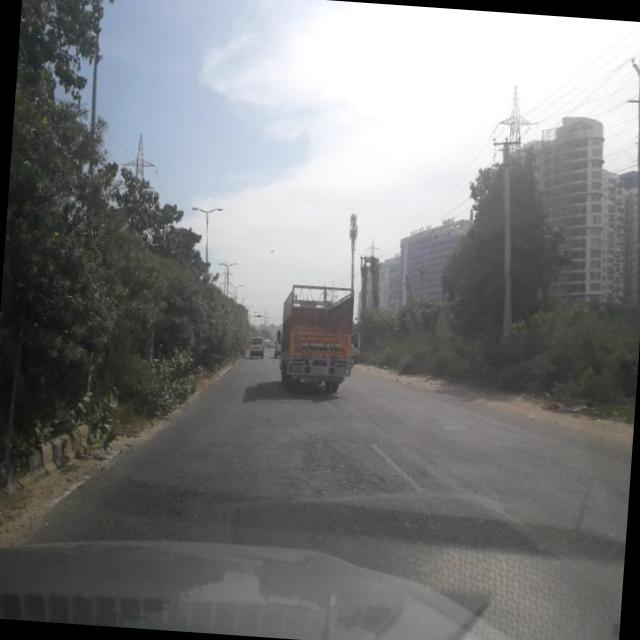crack: (63, 372, 634, 574), (342, 392, 564, 540)
